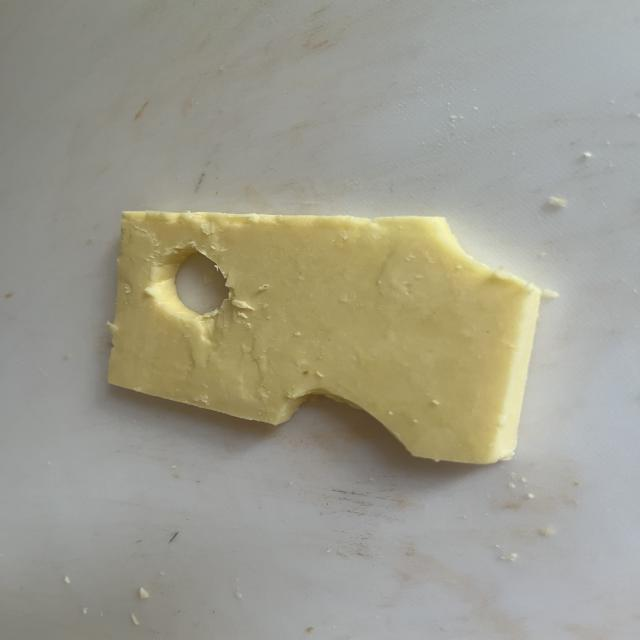cheese: (109, 211, 540, 464)
